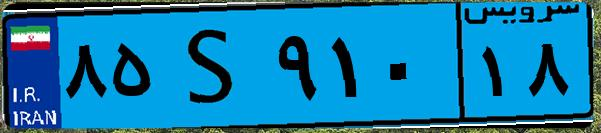0: (385, 28, 445, 110)
1: (330, 28, 385, 110), (475, 38, 525, 113)
5: (110, 28, 158, 98)
8: (57, 26, 110, 100), (525, 38, 570, 115)
9: (270, 28, 330, 110)
S: (158, 12, 270, 120)
